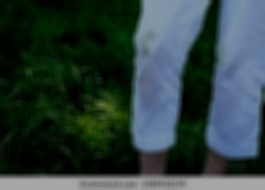earth: (139, 62, 152, 105), (141, 33, 152, 55)
